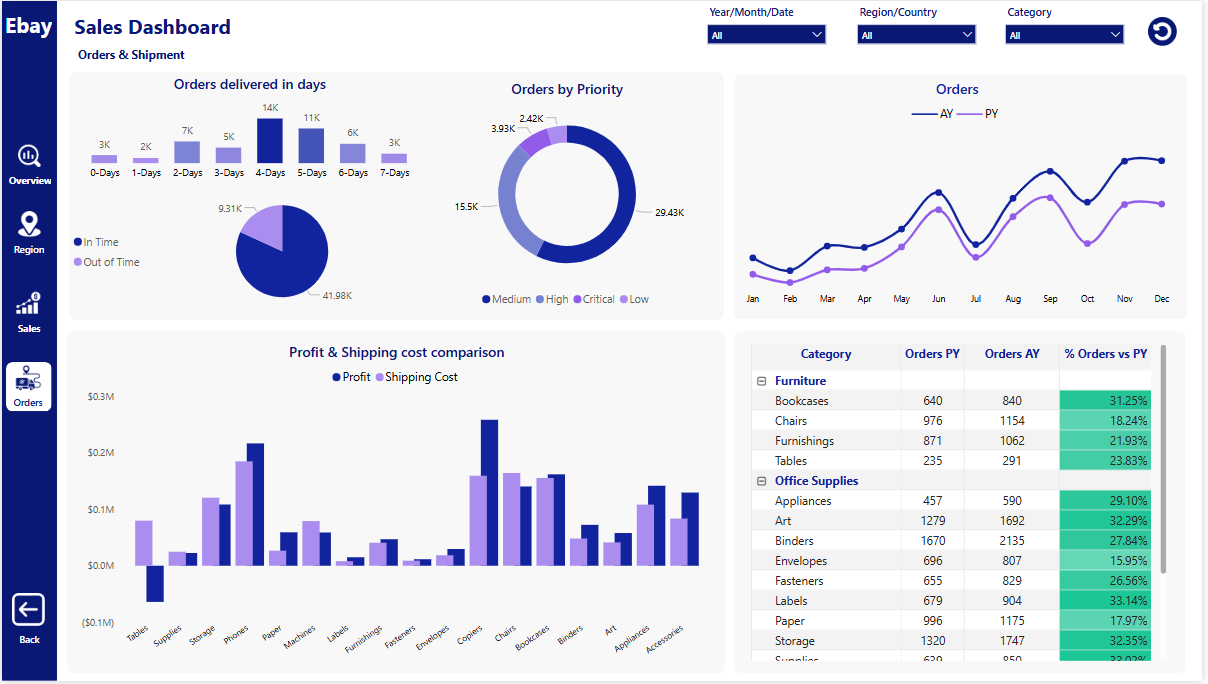

The page's visual inventory and layout, read from the dashboard file:
{"tool":"powerbi","page":{"name":"Orders and shipping","canvas":[1500,850],"ordinal":4},"visuals":[{"type":"slicer","fields":{"Values":["Sales.Order Year","Sales.Month","Sales.Order Date"]},"box":[871.1,0,168.7,54.2],"z":0,"group":"g2"},{"type":"group","id":"g1","title":"Group 1","box":[84.1,88.8,818.7,309.9],"z":0},{"type":"slicer","fields":{"Values":["Sales.Region","Sales.Country"]},"box":[1058.7,0,169.3,54.2],"z":1000,"group":"g2"},{"type":"shape","box":[914.7,91.8,567.2,306.9],"z":1000},{"type":"slicer","fields":{"Values":["Sales.Category"]},"box":[1243.2,0,169.3,54.2],"z":2000,"group":"g2"},{"type":"shape","box":[914.7,412.1,564.3,427.8],"z":2000},{"type":"image","box":[1422.6,14.4,55.1,45.9],"z":3000,"group":"g2"},{"type":"shape","box":[81.4,412.1,822.8,427.8],"z":3000},{"type":"shape","box":[84.1,88.8,818.7,309.9],"z":4000,"group":"g1"},{"type":"lineChart","title":"Orders","fields":{"Category":["Tableau Datasets (1).Month"],"Y":["profit margin.Orders Thi year","profit margin.Orders pre year"]},"box":[914.7,97.8,558.2,293.4],"z":4000},{"type":"pivotTable","fields":{"Rows":["Tableau Datasets (1).Category","Tableau Datasets (1).Sub-Category"],"Values":["profit margin.Orders pre year","profit margin.Orders Thi year","profit margin.AY VS PY Orders"]},"box":[931.8,423.9,530.2,405.5],"z":5000},{"type":"pieChart","title":"Orders by Category","fields":{"Category":["Tableau Datasets (1).In Time/ Delay"],"Y":["CountNonNull(Tableau Datasets (1).Order ID)"]},"box":[84.3,233.2,440.8,158],"z":6000},{"type":"clusteredColumnChart","title":"Profit & Shipping cost comparison","fields":{"Category":["Tableau Datasets (1).Sub-Category"],"Y":["Sum(Tableau Datasets (1).Profit)","Sum(Tableau Datasets (1).Shipping Cost)"]},"box":[93.2,426.5,799.2,402.9],"z":7000},{"type":"shape","box":[0,0,68.7,849.6],"z":8000},{"type":"clusteredColumnChart","title":"Orders delivered in days","fields":{"Category":["Tableau Datasets (1).Days ship"],"Y":["CountNonNull(Tableau Datasets (1).Order ID)"]},"box":[87.1,91.8,446.8,141.4],"z":9000,"group":"g1"},{"type":"shape","box":[5.3,451.4,57.2,61.7],"z":9000},{"type":"shape","box":[1.5,210.6,67.7,24.1],"z":10000},{"type":"donutChart","title":"Orders by Priority","fields":{"Y":["CountNonNull(Tableau Datasets (1).Order ID)"],"Category":["Tableau Datasets (1).Order Priority"]},"box":[526.3,97.4,360,294.5],"z":11000,"group":"g1"},{"type":"shape","box":[0,293.4,67.7,31.6],"z":11000},{"type":"shape","box":[0,391.2,67.7,33.1],"z":12000},{"type":"shape","box":[3,489,60.2,24.1],"z":13000},{"type":"image","box":[6,257.8,55,42],"z":14000},{"type":"image","box":[6,173,55.7,42.1],"z":15000},{"type":"image","box":[4.5,356.6,55.7,42.1],"z":16000},{"type":"image","box":[5.3,449.8,55.7,42.1],"z":17000},{"type":"shape","box":[76.7,3,224.2,57.2],"z":18000},{"type":"shape","box":[82.7,51.2,158,30.1],"z":19000},{"type":"shape","box":[3,0,61.7,57.2],"z":20000},{"type":"group","id":"g2","title":"Group 1","box":[871.1,0,606.6,60.4],"z":21000},{"type":"actionButton","box":[0,170,67.7,64.7],"z":22000},{"type":"actionButton","box":[0,257.3,67.7,64.7],"z":23000},{"type":"actionButton","box":[0,356.6,67.7,64.7],"z":24000},{"type":"image","box":[7.9,734.9,51.2,51.2],"z":25000},{"type":"shape","box":[1.5,783.9,66.2,28.6],"z":26000},{"type":"actionButton","box":[3,728.2,63.2,84.3],"z":27000}]}

Visuals, with their boxes on the page's 1500x850 design canvas (x1, y1, x2, y2). These are canvas units, not pixel positions in the 1208x684 screenshot, which may show the page scaled, cropped or inside an application window:
slicer - Sales.Order Year x Sales.Month: select_region(871, 0, 1040, 54)
"Group 1" group: select_region(84, 89, 903, 399)
slicer - Sales.Region x Sales.Country: select_region(1059, 0, 1228, 54)
shape: select_region(915, 92, 1482, 399)
slicer - Sales.Category: select_region(1243, 0, 1412, 54)
shape: select_region(915, 412, 1479, 840)
image: select_region(1423, 14, 1478, 60)
shape: select_region(81, 412, 904, 840)
shape: select_region(84, 89, 903, 399)
"Orders" lineChart: select_region(915, 98, 1473, 391)
pivotTable - Tableau Datasets (1).Category x Tableau Datasets (1).Sub-Category: select_region(932, 424, 1462, 829)
"Orders by Category" pieChart: select_region(84, 233, 525, 391)
"Profit & Shipping cost comparison" clusteredColumnChart: select_region(93, 426, 892, 829)
shape: select_region(0, 0, 69, 850)
"Orders delivered in days" clusteredColumnChart: select_region(87, 92, 534, 233)
shape: select_region(5, 451, 62, 513)
shape: select_region(2, 211, 69, 235)
"Orders by Priority" donutChart: select_region(526, 97, 886, 392)
shape: select_region(0, 293, 68, 325)
shape: select_region(0, 391, 68, 424)
shape: select_region(3, 489, 63, 513)
image: select_region(6, 258, 61, 300)
image: select_region(6, 173, 62, 215)
image: select_region(4, 357, 60, 399)
image: select_region(5, 450, 61, 492)
shape: select_region(77, 3, 301, 60)
shape: select_region(83, 51, 241, 81)
shape: select_region(3, 0, 65, 57)
"Group 1" group: select_region(871, 0, 1478, 60)
actionButton: select_region(0, 170, 68, 235)
actionButton: select_region(0, 257, 68, 322)
actionButton: select_region(0, 357, 68, 421)
image: select_region(8, 735, 59, 786)
shape: select_region(2, 784, 68, 812)
actionButton: select_region(3, 728, 66, 812)
